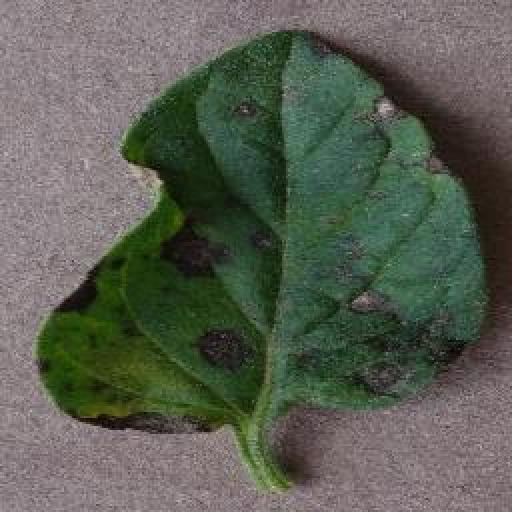Early Blight: (34, 28, 497, 436)
